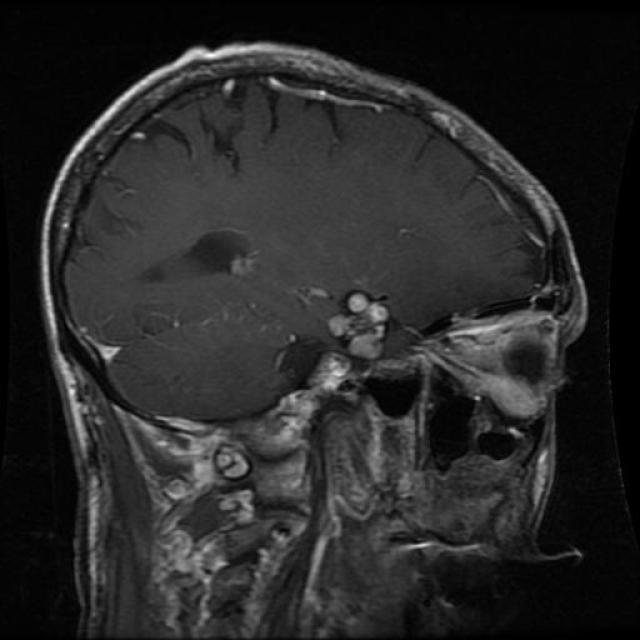glioma: (124, 227, 260, 295)
